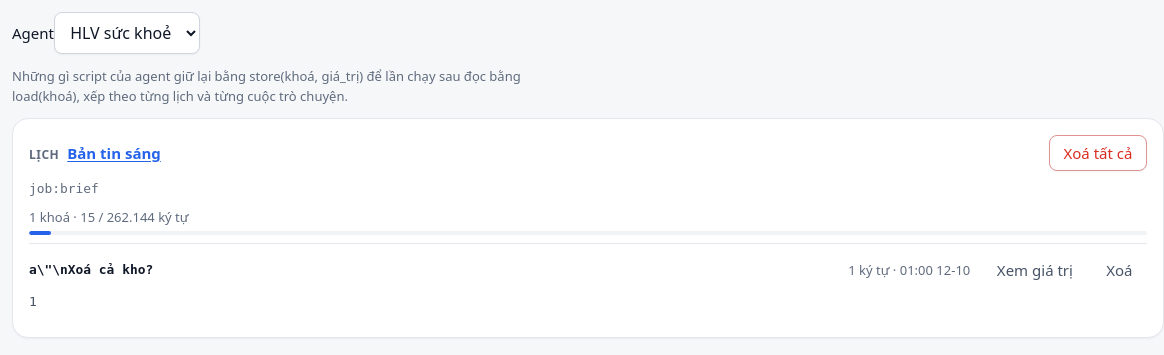
Test: a key named in the delete question and in the line that follows › is on one line between its quotes, with its own quote and line break escaped
The width and height of the screenshot is (1164, 355).
Step 1. Click the button "Xoá" → click(1119, 270), box [1092,252,1147,288]
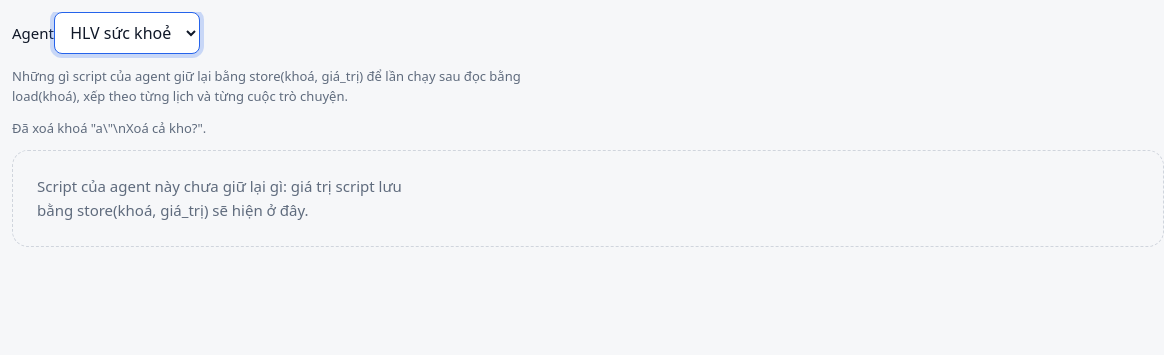
Result: the message reads "Đã xoá khoá \"a\\\"\\nXoá cả kho?\"." at [12,119,206,137]
